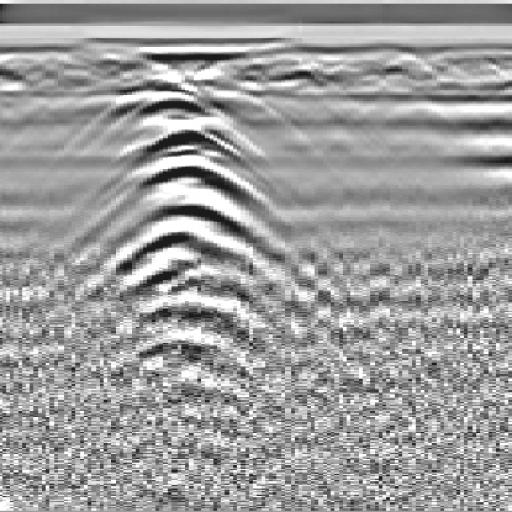metalic: (50, 55, 343, 384)
